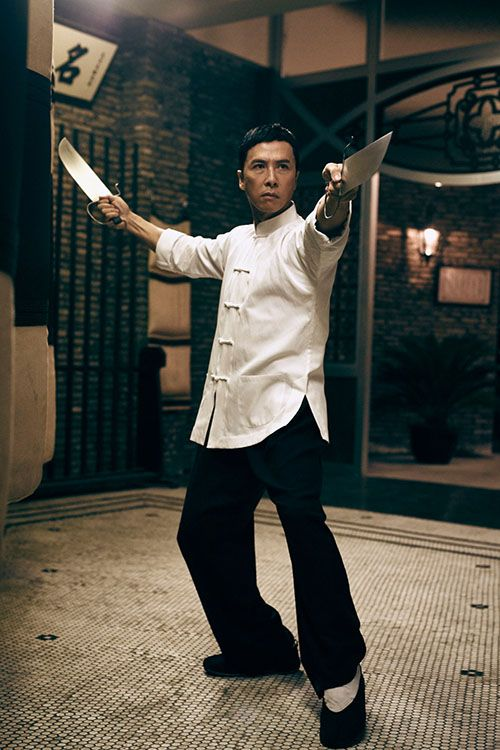knife: (54, 121, 134, 245), (325, 128, 398, 201)
person: (95, 114, 375, 749)
